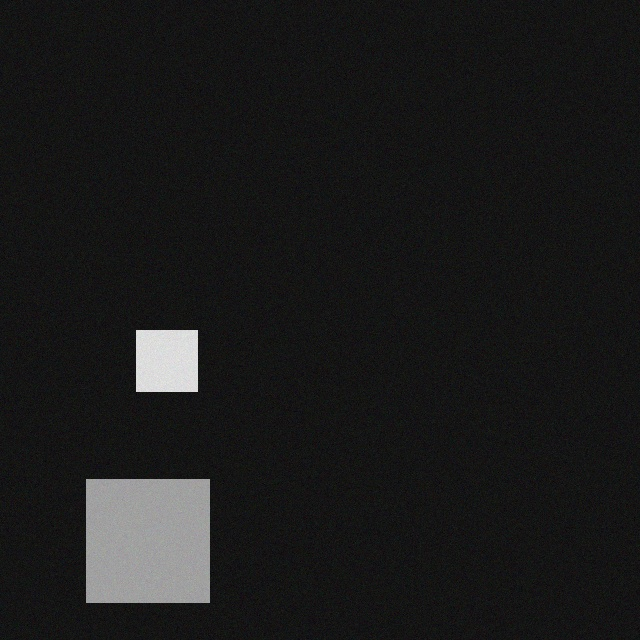square: (96, 465, 219, 588), (146, 316, 207, 377)
